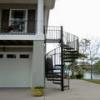stairs: (59, 27, 84, 62), (45, 58, 69, 92)
